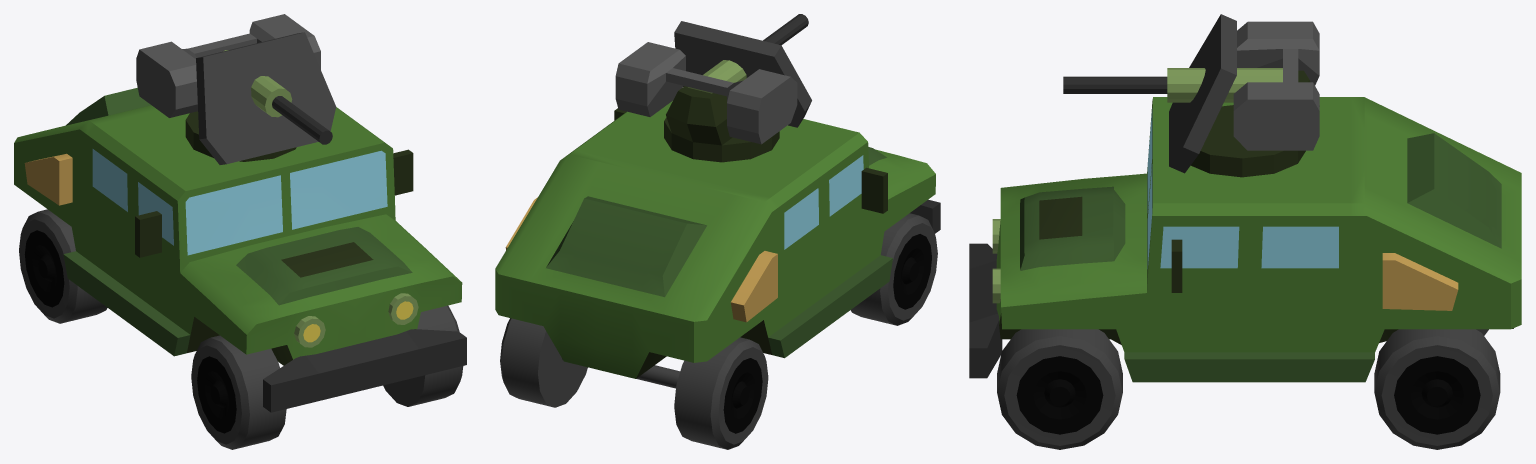
Rendered from Jeep 2.fbx.
3 renders of one model, left to right at view 1: azimuth 30°, elevation 25°; view 2: azimuth 150°, elevation 25°; view 3: azimuth 270°, elevation 25°, orthographic. The views are drawn at different scales.
Visible parts, largest first — view 1: Cube.409, Plane.071, Cube.410, Cylinder.618, Cube.412, Cylinder.619, Cylinder.608, Cylinder.455, Cube.532, Cube.411, Cylinder.453, Cylinder.454; view 2: Cube.409, Cube.412, Cylinder.619, Cylinder.618, Cylinder.607, Cylinder.454, Plane.071, Cube.411, Cylinder.455, Cube.532, Cube.410; view 3: Cube.409, Cylinder.607, Cylinder.608, Cube.412, Plane.071, Cylinder.455, Cube.410, Cylinder.454, Cube.411, Cube.532, Cylinder.453.
Part boxes in pixels (box(x1,y1,x2,y2)): Cube.409: box(14, 87, 462, 365); Plane.071: box(196, 32, 336, 164); Cube.410: box(263, 329, 466, 412); Cylinder.618: box(191, 335, 286, 449); Cube.412: box(136, 14, 320, 117); Cylinder.619: box(19, 209, 107, 323); Cylinder.608: box(383, 305, 463, 406); Cylinder.455: box(223, 50, 332, 144); Cube.532: box(135, 149, 413, 257); Cube.411: box(24, 153, 72, 205); Cylinder.453: box(294, 293, 418, 347); Cylinder.454: box(185, 111, 296, 161); Cube.409: box(495, 101, 935, 378); Cube.412: box(615, 42, 797, 144); Cylinder.619: box(636, 337, 768, 449); Cylinder.618: box(850, 213, 937, 325); Cylinder.607: box(500, 318, 587, 407); Cylinder.454: box(664, 86, 779, 162); Plane.071: box(674, 21, 811, 127); Cube.411: box(505, 197, 777, 322); Cylinder.455: box(688, 14, 808, 93); Cube.532: box(614, 108, 887, 213); Cube.410: box(910, 199, 940, 233); Cube.409: box(996, 97, 1521, 382); Cylinder.607: box(1374, 329, 1500, 449); Cylinder.608: box(997, 329, 1122, 449); Cube.412: box(1233, 21, 1319, 150); Plane.071: box(1169, 14, 1236, 173); Cylinder.455: box(1063, 68, 1282, 102); Cube.410: box(969, 243, 1002, 378); Cylinder.454: box(1191, 70, 1310, 177); Cube.411: box(1382, 253, 1458, 310); Cube.532: box(1171, 239, 1182, 292); Cylinder.453: box(992, 219, 1000, 303).
Bounding box in the file's own units: 668 × 749 × 1066.
